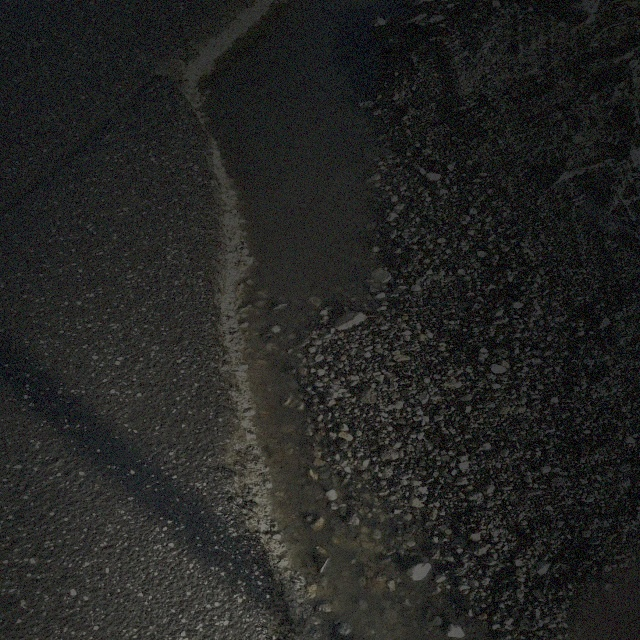pothole: (164, 11, 414, 535)
